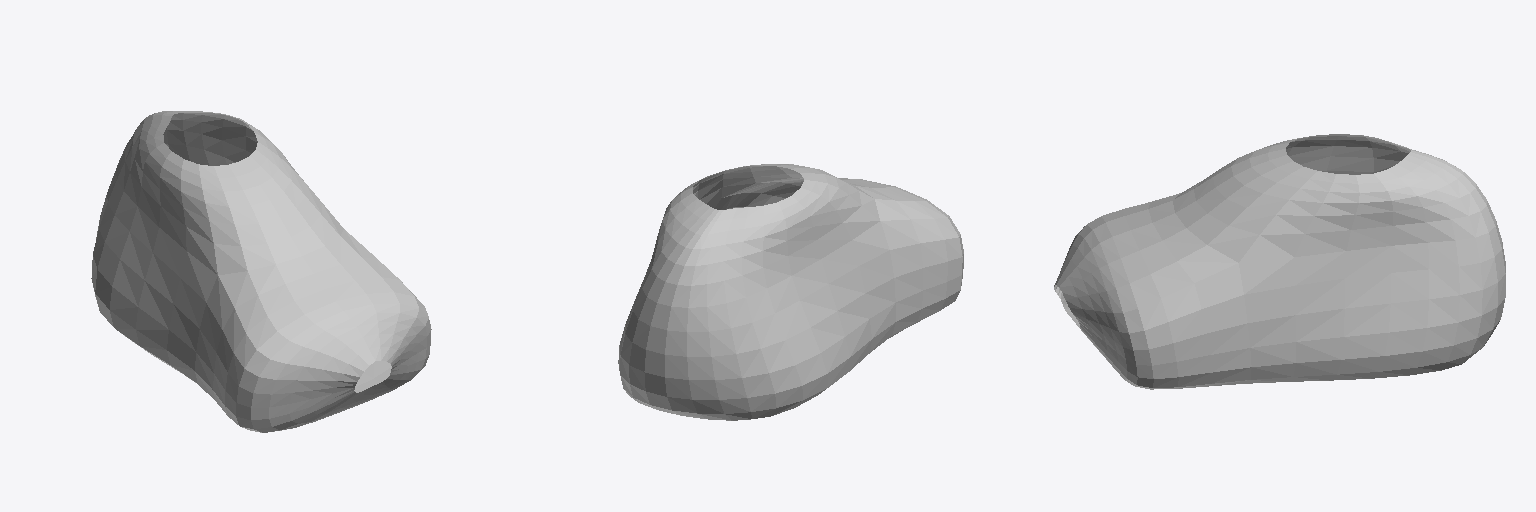
The model's file is lfoot.obj.
3 renders of one model, left to right at view 1: azimuth 30°, elevation 25°; view 2: azimuth 150°, elevation 25°; view 3: azimuth 270°, elevation 25°, orthographic.
Parts seen in each view (by area): view 1: human.lwo; view 2: human.lwo; view 3: human.lwo.
Part boxes in pixels (left/top/right/bottom): human.lwo: left=91, top=111, right=431, bottom=432; human.lwo: left=618, top=164, right=963, bottom=420; human.lwo: left=1054, top=134, right=1505, bottom=389.
Size of the model in its own units: 0.1033 by 0.0905 by 0.1893.